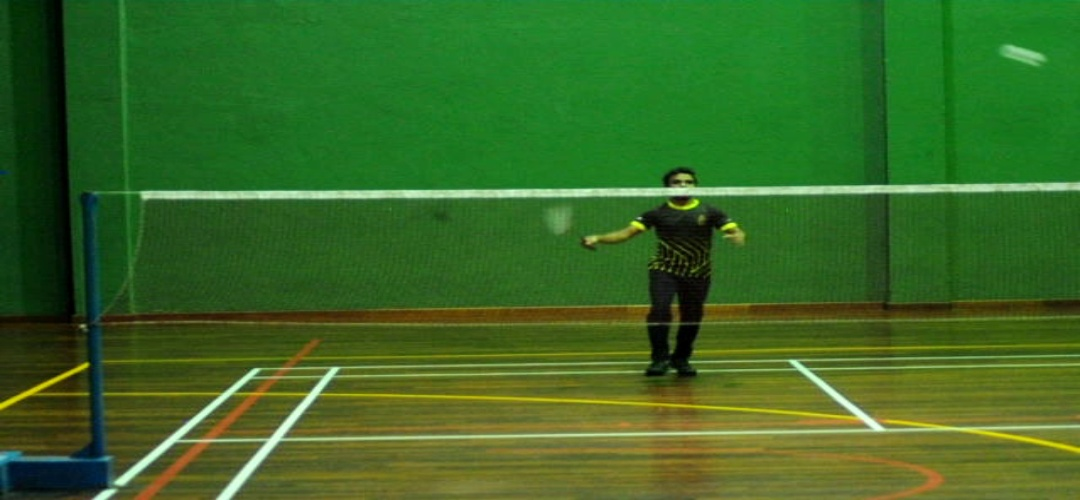c1: (266, 430, 288, 450)
c2: (858, 419, 894, 440)
player: (580, 166, 751, 378)
shuttle: (996, 35, 1047, 69)
